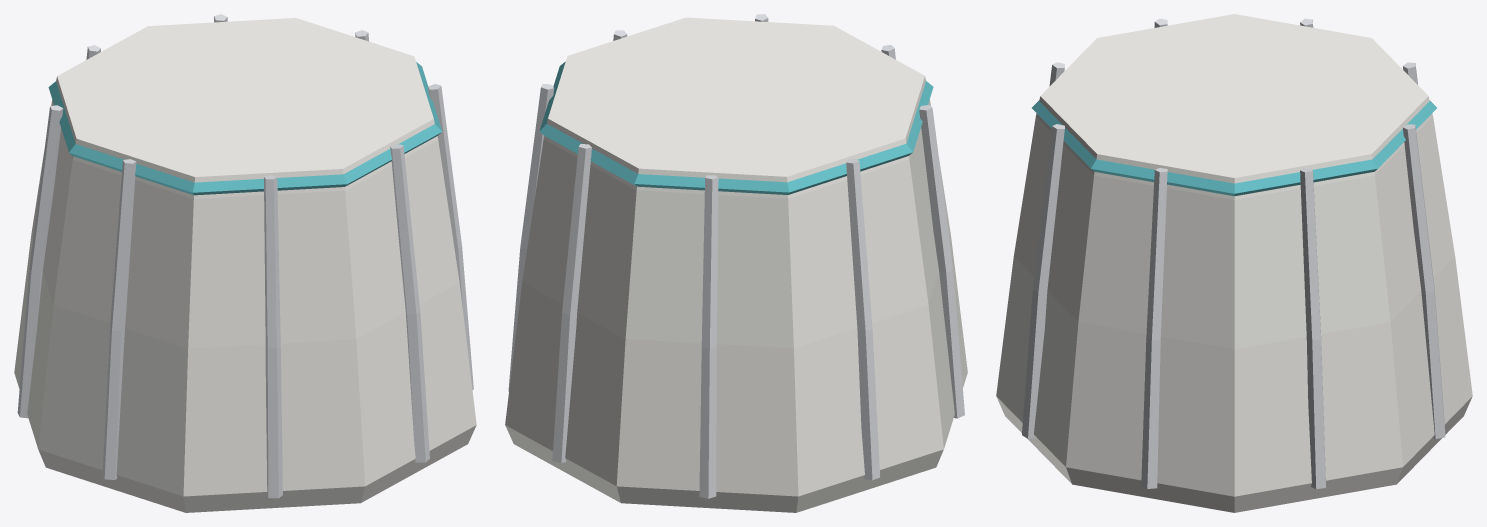
The model's file is arcology-towers-and-skyways-slim-spire-section-ea4ea933__23246.glb.
The picture shows the model from 3 angles, left to right: view 1: azimuth 30°, elevation 25°; view 2: azimuth 150°, elevation 25°; view 3: azimuth 270°, elevation 25°; orthographic projection.
Parts seen in each view (by area): view 1: slim-spire-section; view 2: slim-spire-section; view 3: slim-spire-section.
Part boxes in pixels (box(x1,y1,x2,y2)): slim-spire-section: box(14, 14, 476, 512); slim-spire-section: box(505, 14, 967, 512); slim-spire-section: box(996, 14, 1472, 512).
Bounding box in the file's own units: 10.8 × 8.02 × 10.8.
